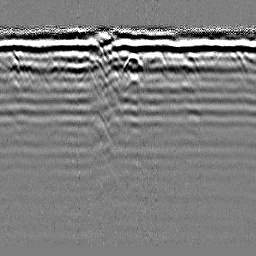cavity: (122, 51, 143, 72)
